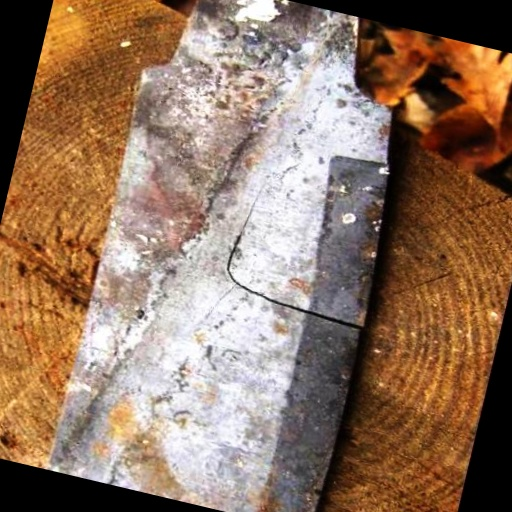crack: (210, 271, 368, 335), (215, 182, 269, 290)
